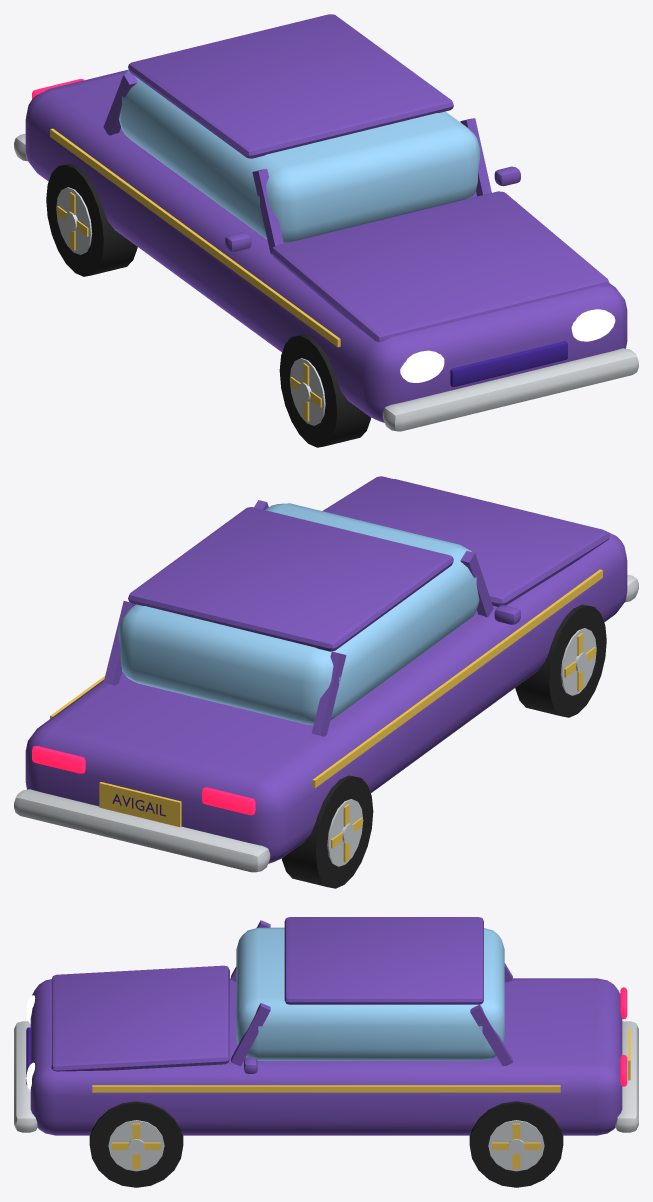
Rendered from cameos_avigail_car.glb.
The picture shows the model from 3 angles, top to bottom: view 1: azimuth 30°, elevation 25°; view 2: azimuth 150°, elevation 25°; view 3: azimuth 270°, elevation 25°; orthographic projection. The views are drawn at different scales.
Visible parts, largest first — view 1: AvigailCar_body, Wheel_RR, Wheel_FR; view 2: AvigailCar_body, Wheel_FR, Wheel_RR; view 3: AvigailCar_body, Wheel_FL, Wheel_RL.
Boxes of the visible parts, bbox=[...] form: AvigailCar_body: bbox=[14, 14, 638, 431]; Wheel_RR: bbox=[46, 163, 137, 276]; Wheel_FR: bbox=[279, 334, 370, 447]; AvigailCar_body: bbox=[14, 476, 638, 872]; Wheel_FR: bbox=[515, 604, 606, 717]; Wheel_RR: bbox=[282, 775, 373, 888]; AvigailCar_body: bbox=[14, 917, 638, 1135]; Wheel_FL: bbox=[89, 1101, 183, 1187]; Wheel_RL: bbox=[469, 1101, 563, 1187].
Size of the model in its own units: 1.99 by 1.42 by 4.54.
